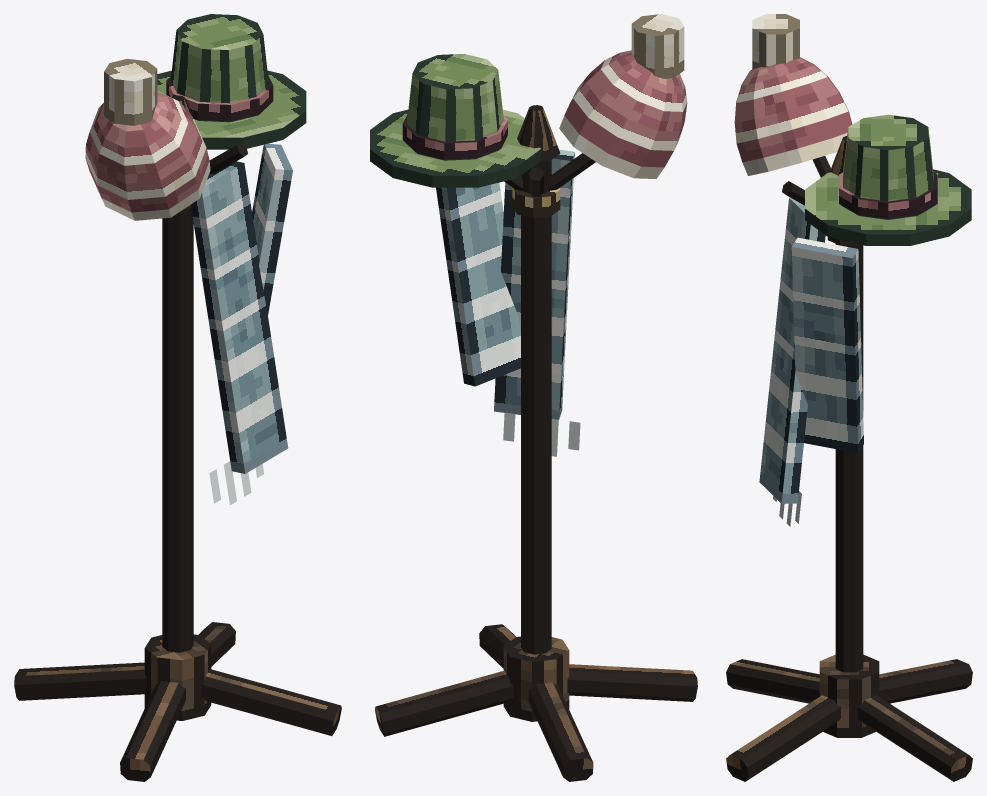
The model's file is hatstand.glb.
The picture shows the model from 3 angles, left to right: view 1: azimuth 30°, elevation 25°; view 2: azimuth 150°, elevation 25°; view 3: azimuth 270°, elevation 25°; orthographic projection. The views are drawn at different scales.
Parts seen in each view (by area): view 1: scarf_a, pole, bobble_hat, felt_crown, foot_0, felt_brim, foot_2, scarf_b, foot_3, hub, bobble, felt_band (+3 smaller); view 2: pole, scarf_b, bobble_hat, felt_crown, scarf_a, felt_brim, foot_1, foot_3, foot_2, hub, bobble, felt_band (+5 smaller); view 3: scarf_b, bobble_hat, scarf_a, pole, felt_crown, felt_brim, foot_0, foot_1, hub, foot_2, foot_3, bobble (+1 smaller).
Part boxes in pixels (x1,y1,x2,y2): scarf_a: [191, 161, 288, 473]; pole: [162, 208, 193, 652]; bobble_hat: [85, 91, 210, 220]; felt_crown: [170, 14, 268, 122]; foot_0: [201, 669, 341, 735]; felt_brim: [157, 70, 306, 149]; foot_2: [14, 662, 146, 700]; scarf_b: [252, 143, 292, 314]; foot_3: [120, 681, 185, 781]; hub: [144, 634, 211, 720]; bobble: [104, 59, 157, 125]; felt_band: [166, 75, 273, 121]; pole: [521, 160, 551, 654]; scarf_b: [436, 182, 520, 386]; bobble_hat: [559, 50, 687, 178]; felt_crown: [407, 54, 503, 160]; scarf_a: [494, 149, 574, 419]; felt_brim: [370, 109, 540, 187]; foot_1: [375, 670, 513, 736]; foot_3: [567, 664, 697, 701]; foot_2: [528, 682, 593, 781]; hub: [503, 636, 569, 721]; bobble: [631, 14, 684, 78]; felt_band: [402, 114, 507, 159]; scarf_b: [791, 237, 863, 452]; bobble_hat: [734, 57, 852, 175]; scarf_a: [759, 197, 825, 503]; pole: [835, 244, 863, 672]; felt_crown: [841, 114, 935, 219]; felt_brim: [805, 169, 971, 245]; foot_0: [726, 695, 840, 781]; foot_1: [858, 695, 972, 781]; hub: [819, 654, 879, 737]; foot_2: [879, 659, 972, 703]; foot_3: [726, 659, 819, 703]; bobble: [752, 14, 799, 69].
Bounding box in the file's own units: 12.93 × 34.19 × 11.44.
Materials: 2 (2 with a texture image).
